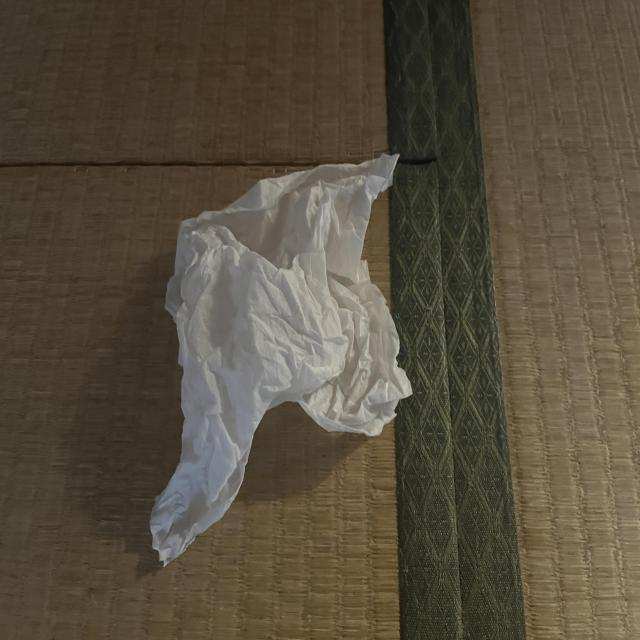Paper: (152, 168, 414, 528)
